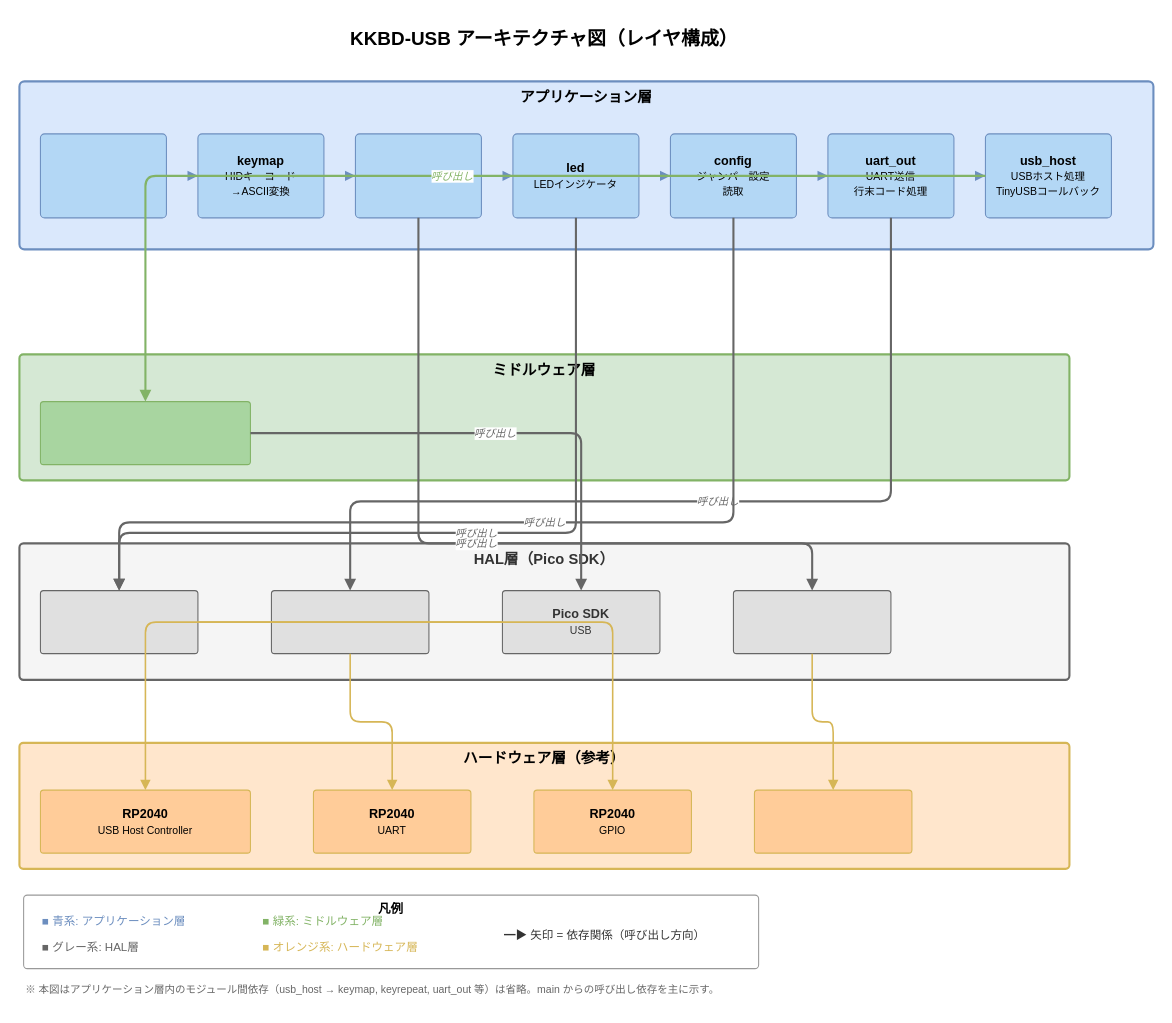
Image size: 1172x1023. Some labels were removed from this diagram. Each missing label, with the centre of its shape:
keyrepeat キーリピート 制御: point (417, 175)
main エントリポイント メインループ: point (102, 175)
Pico SDK GPIO: point (118, 622)
Pico SDK Timer: point (811, 622)
Pico SDK UART: point (349, 622)
RP2040 Timer: point (832, 821)
TinyUSB Host (HID Class): point (144, 433)
